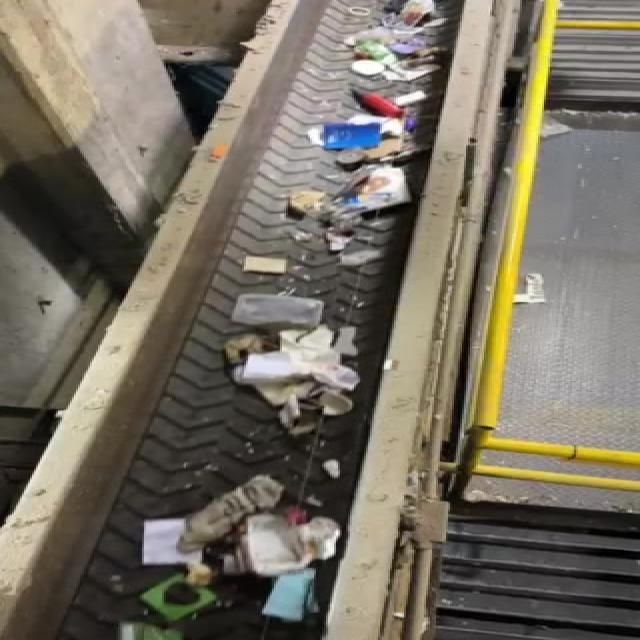pet: (178, 466, 285, 559)
